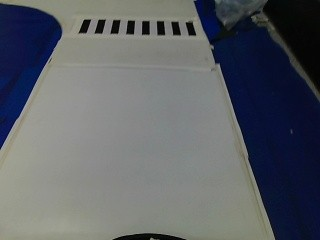crosswalk: (74, 17, 199, 39)
